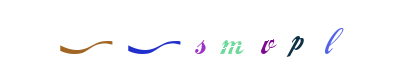0: (41, 0, 121, 80)
7: (157, 0, 237, 80)
L: (256, 0, 336, 80)
M: (186, 0, 266, 80)
P: (205, 0, 285, 80)
S: (166, 0, 246, 80)
V: (196, 0, 276, 80)
